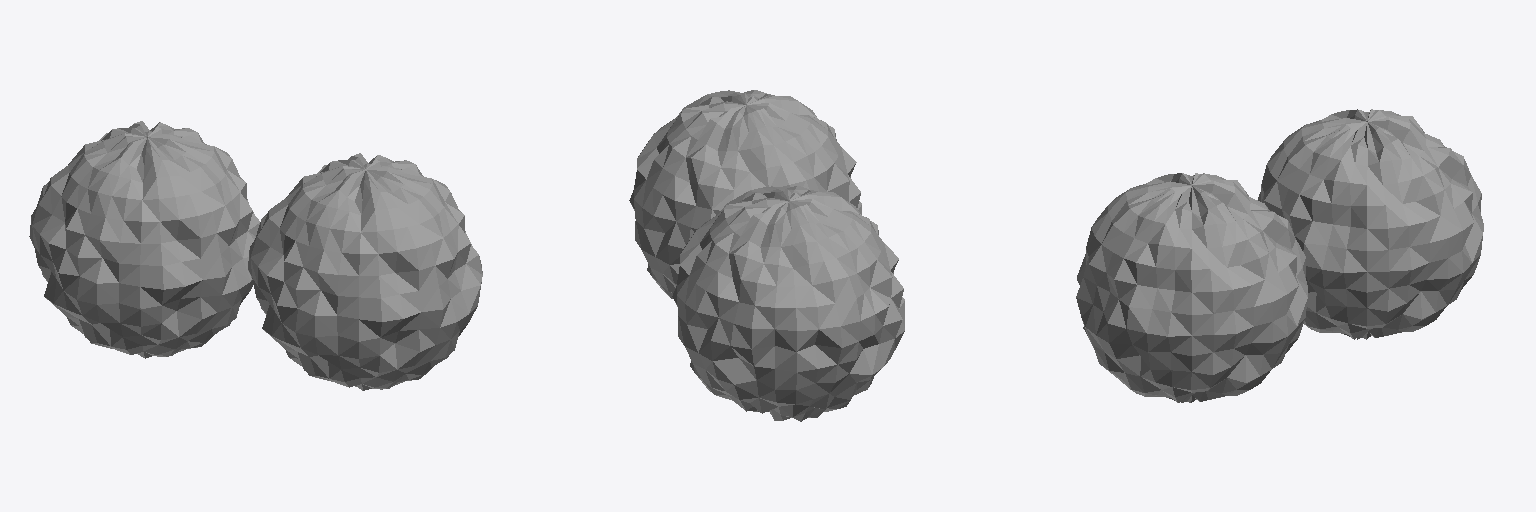
The model's file is Pebble_after_pickup.obj.
3 renders of one model, left to right at view 1: azimuth 30°, elevation 25°; view 2: azimuth 150°, elevation 25°; view 3: azimuth 270°, elevation 25°, orthographic.
Parts seen in each view (by area): view 1: Sphere.001; view 2: Sphere.001; view 3: Sphere.001.
Boxes of the visible parts, x1=… form: Sphere.001: x1=29, y1=121, x2=482, y2=390; Sphere.001: x1=629, y1=90, x2=904, y2=421; Sphere.001: x1=1076, y1=109, x2=1483, y2=402.
Size of the model in its own units: 0.7778 by 0.4746 by 0.8261.